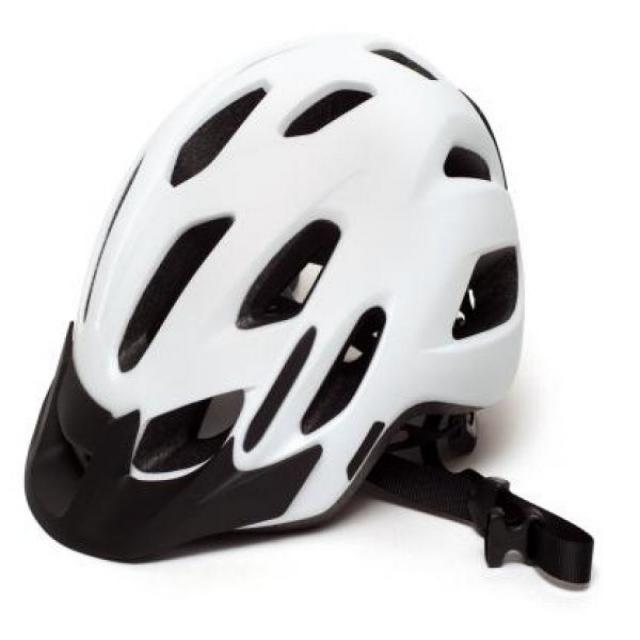Helmet: (59, 48, 526, 547)
